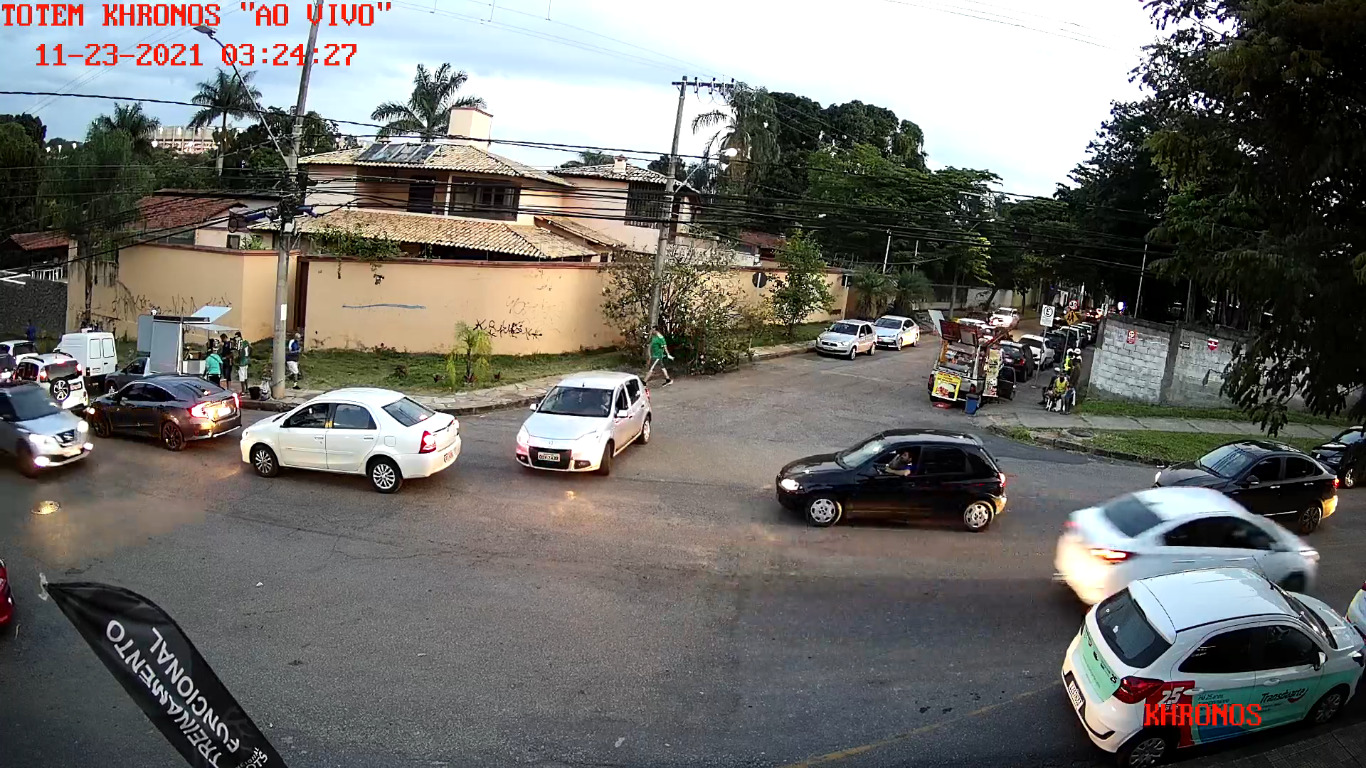car: (1057, 564, 1365, 761), (1050, 482, 1321, 614), (774, 427, 1008, 532), (239, 386, 462, 495), (1152, 436, 1341, 535), (511, 368, 654, 478), (86, 373, 244, 453)
